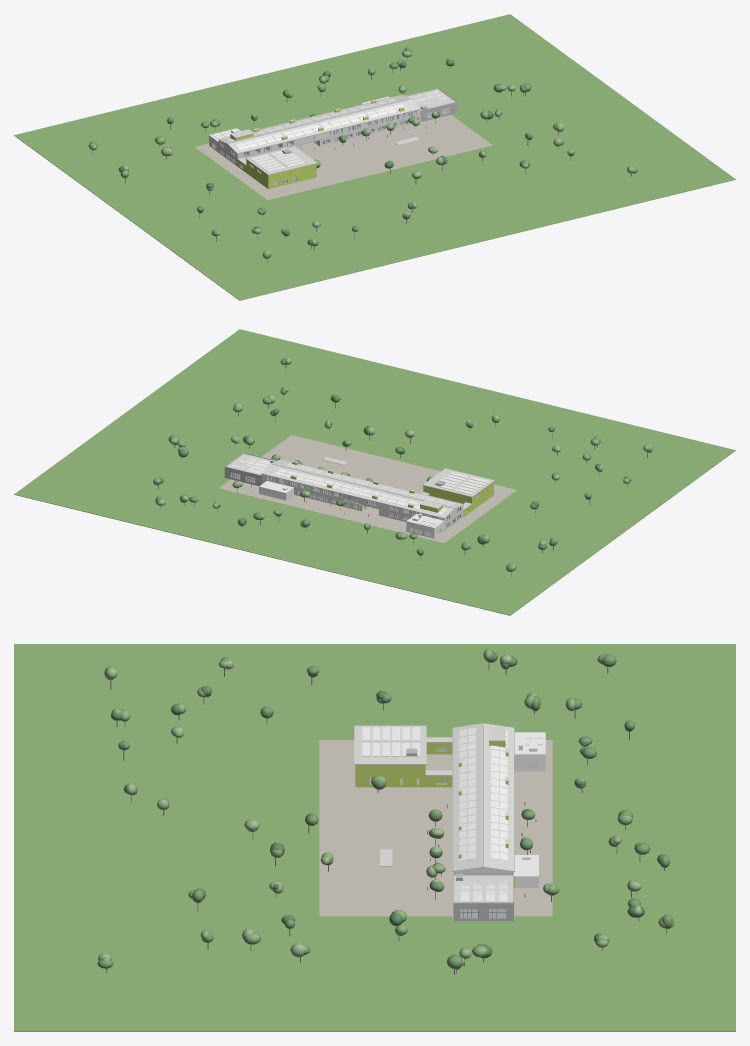
Rendered from istituto.glb.
The picture shows the model from 3 angles, top to bottom: view 1: azimuth 30°, elevation 25°; view 2: azimuth 150°, elevation 25°; view 3: azimuth 270°, elevation 25°; orthographic projection. The views are drawn at different scales.
Visible parts, largest first — view 1: Mondo_esterno, Palestra_all; view 2: Mondo_esterno, Palestra_all; view 3: Mondo_esterno, Palestra_all.
Part boxes in pixels (bbox=[...]): Mondo_esterno: bbox=[14, 14, 735, 300]; Palestra_all: bbox=[237, 146, 317, 188]; Mondo_esterno: bbox=[14, 329, 735, 615]; Palestra_all: bbox=[421, 468, 494, 517]; Mondo_esterno: bbox=[14, 644, 735, 1031]; Palestra_all: bbox=[354, 725, 452, 787].
Bounding box in the file's own units: 330 × 12.35 × 260.
